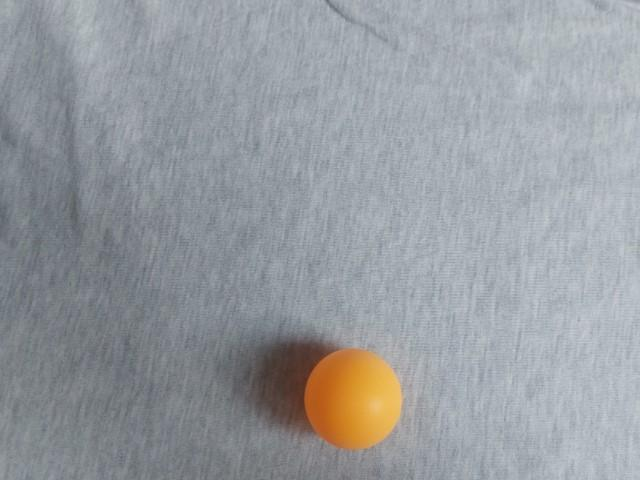oball: (224, 21, 344, 140)
